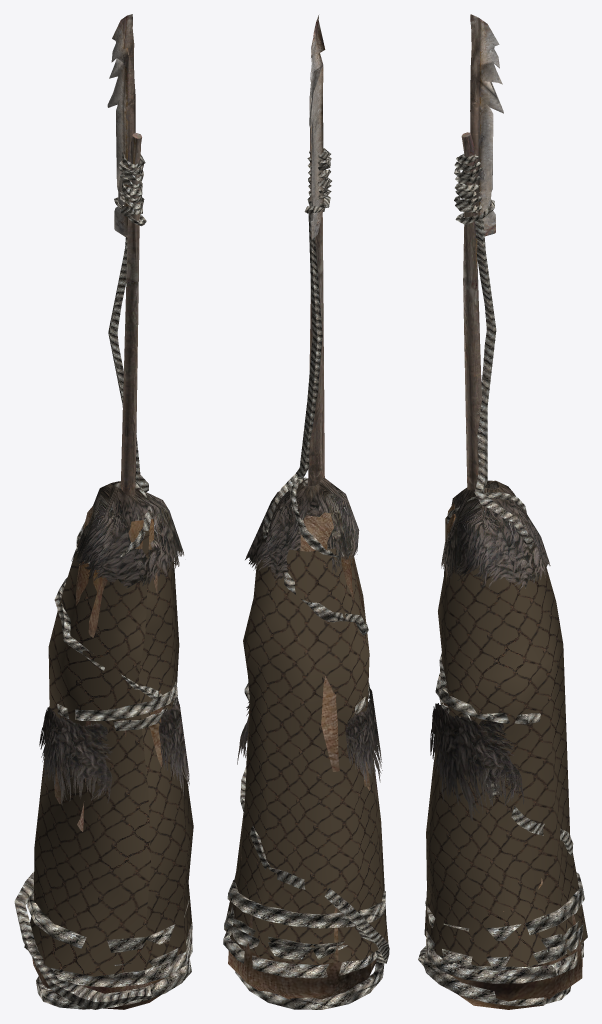
The model's file is harpoon_2.obj.
3 renders of one model, left to right at view 1: azimuth 30°, elevation 25°; view 2: azimuth 150°, elevation 25°; view 3: azimuth 270°, elevation 25°, orthographic. The views are drawn at different scales.
Visible parts, largest first — view 1: harpoon_2; view 2: harpoon_2; view 3: harpoon_2.
Part boxes in pixels (x1=…): harpoon_2: x1=14, y1=14, x2=193, y2=1009; harpoon_2: x1=223, y1=15, x2=389, y2=1009; harpoon_2: x1=418, y1=14, x2=587, y2=1009.
Bounding box in the file's own units: 16.92 × 104 × 16.33.
